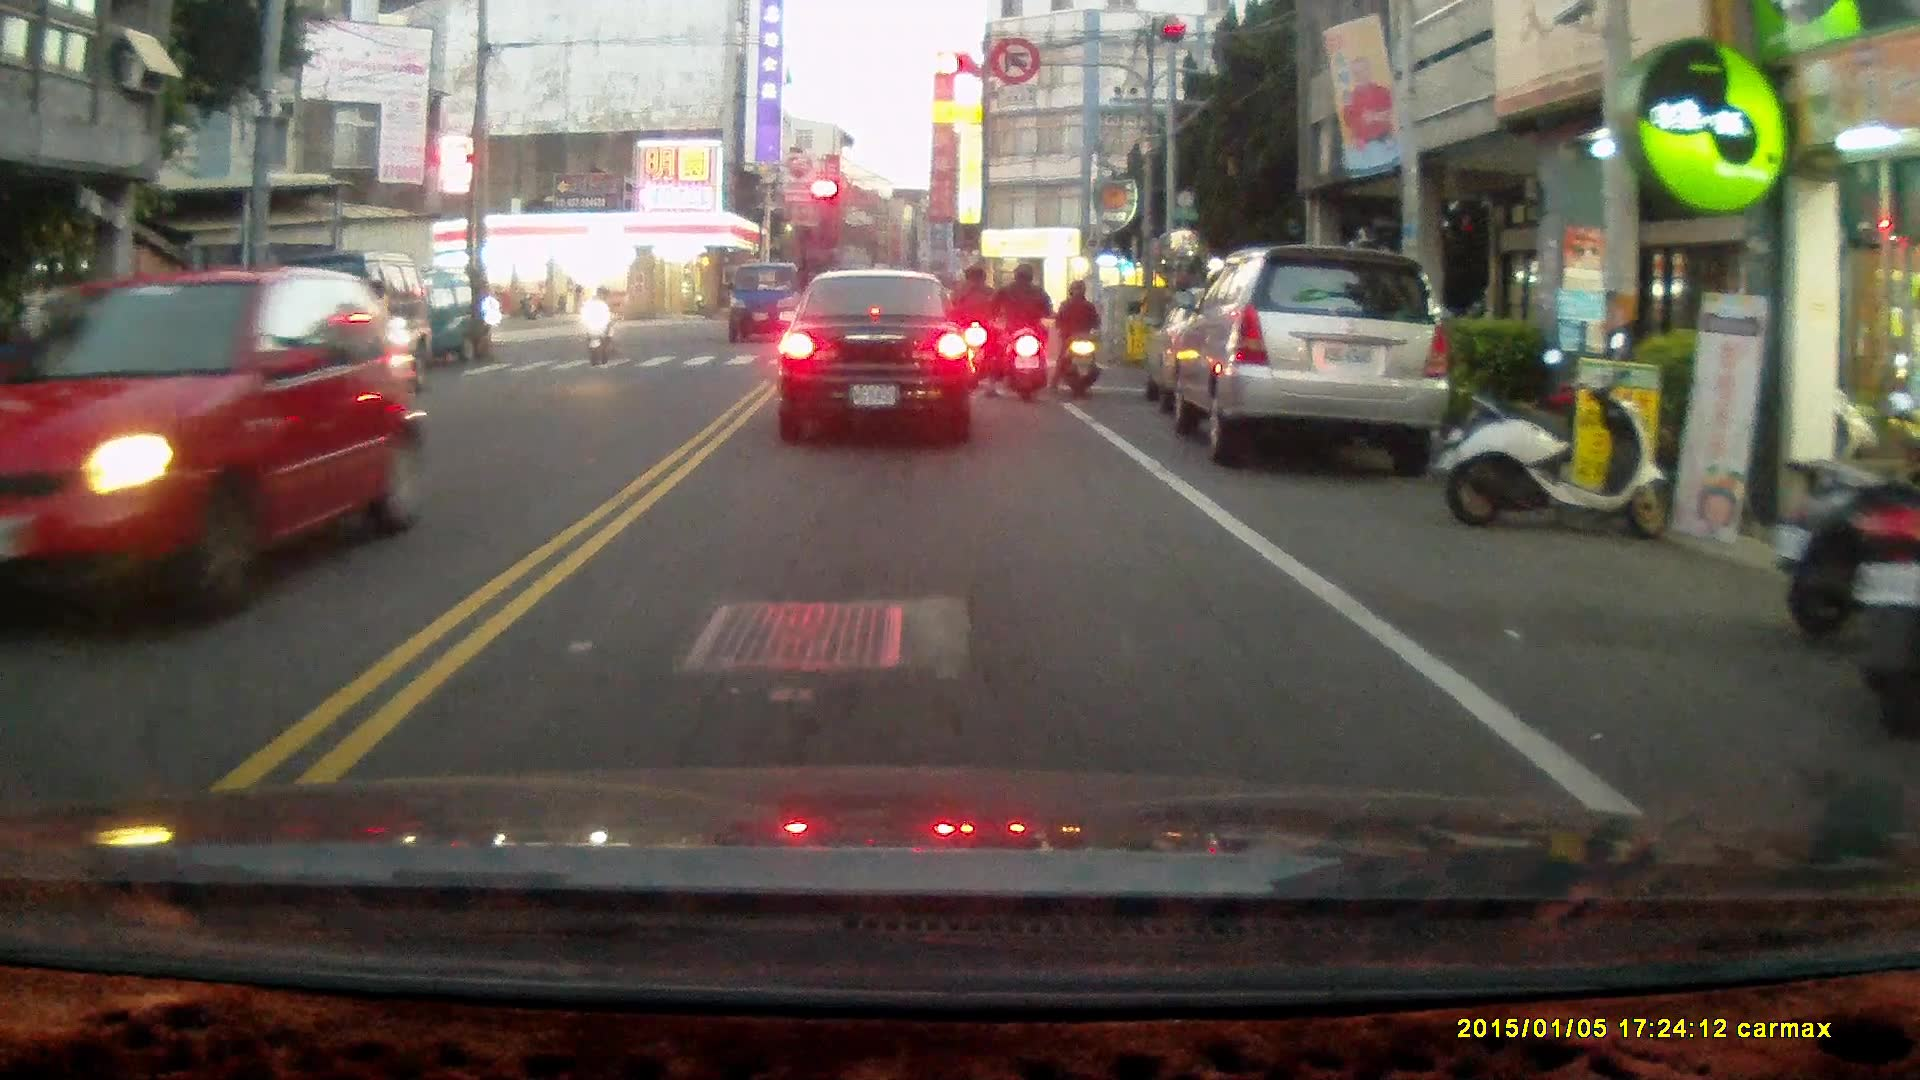rider: (986, 259, 1054, 405), (1049, 275, 1103, 398), (947, 264, 995, 387), (585, 281, 615, 367)
vehicle: (1, 265, 432, 615), (1159, 243, 1448, 467), (781, 268, 980, 442), (237, 248, 430, 403)
